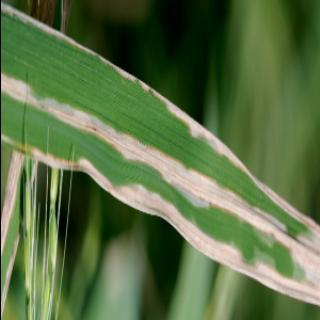Hawar-Daun: (0, 70, 319, 304), (52, 37, 214, 152)
